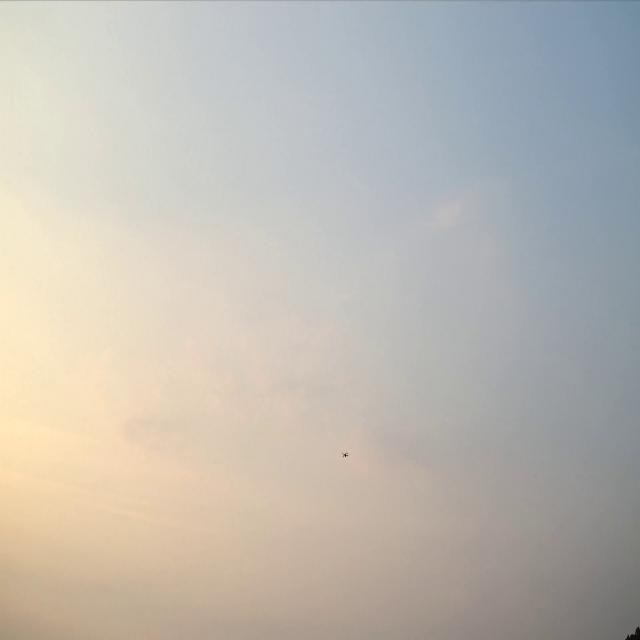UAV: (342, 450, 350, 458)
